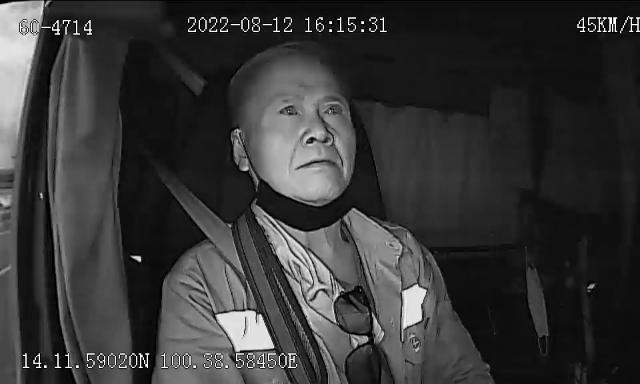SafeDriving: (272, 96, 306, 123), (316, 96, 349, 120)
Seatbelt: (152, 158, 234, 262)
